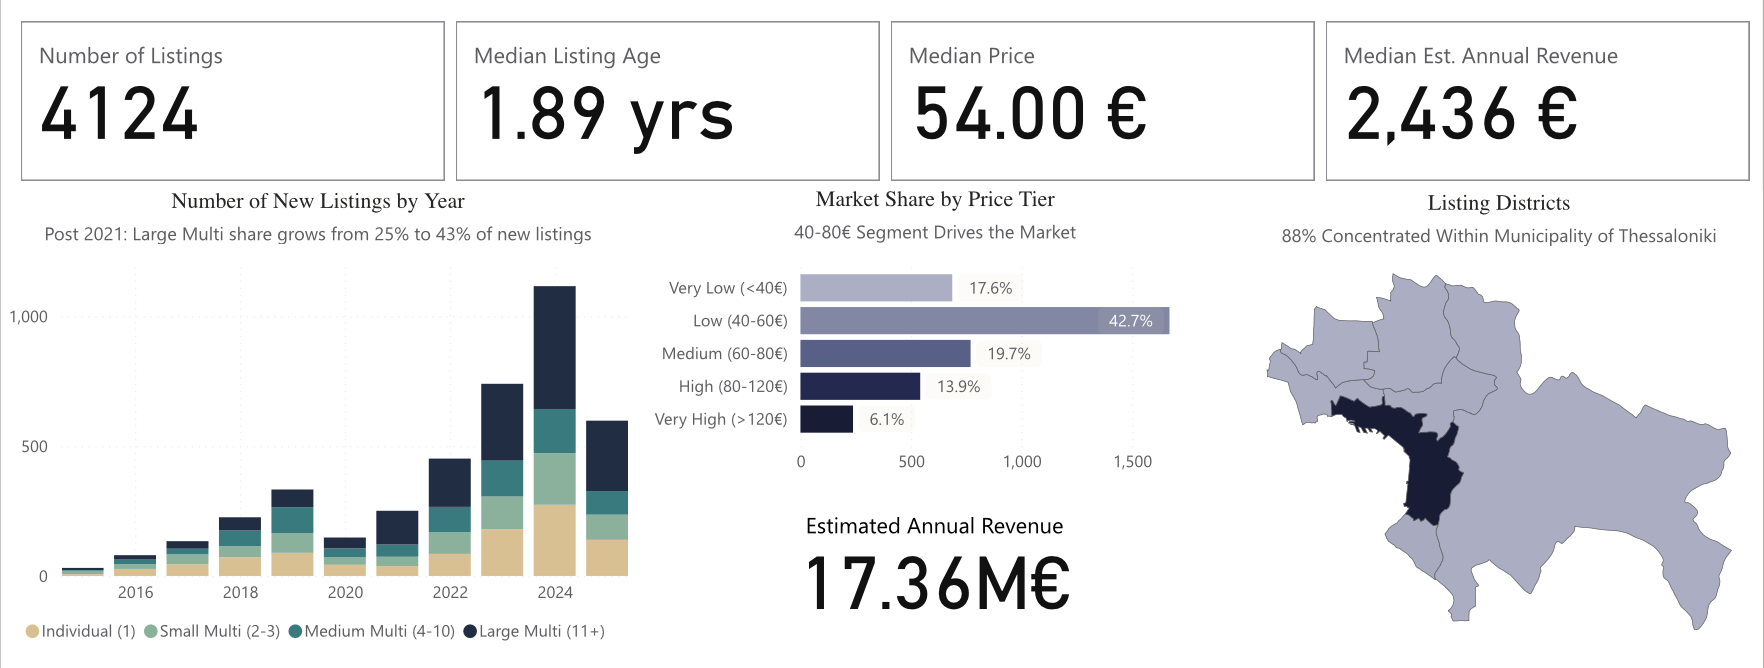

What the dashboard file says about the page in this screenshot:
{"tool":"powerbi","page":{"name":"Overview","canvas":[1280,720],"ordinal":0},"visuals":[{"type":"textbox","box":[10,0,1270,82.5],"z":0},{"type":"cardVisual","fields":{"Data":["CountNonNull(listings_regular_license.host_id)","listings_regular_license.Median Listing Age Text","Median(listings_regular_license.price)","Median(listings_regular_license.estimated_revenue_l365d)"]},"box":[9.8,82.2,1269.9,126.4],"z":1000},{"type":"textbox","box":[9.8,548.5,850.3,171.8],"z":2000},{"type":"shapeMap","title":"Listing Districts","fields":{"Category":["listings_regular_license.neighbourhood_cleansed"],"Value":["CountNonNull(listings_regular_license.id)"]},"box":[896,209.6,385,338.6],"z":3000},{"type":"listSlicer","fields":{"Values":["listings_regular_license.neighbourhood_cleansed"]},"box":[944.4,548.3,335.6,172.3],"z":4000},{"type":"columnChart","title":"Number of New Listings by Year","fields":{"Category":["listings_regular_license.first_review_date.Variation.Date Hierarchy.Year","listings_regular_license.first_review_date.Variation.Date Hierarchy.Quarter","listings_regular_license.first_review_date.Variation.Date Hierarchy.Month"],"Y":["CountNonNull(listings_regular_license.id)"],"Series":["listings_regular_license.host_category"]},"box":[0,208.6,460.6,339.7],"z":5000},{"type":"clusteredBarChart","title":"Market Share by Price Tier","fields":{"Category":["listings_regular_license.price_cat"],"Y":["CountNonNull(listings_regular_license.price_cat)"]},"box":[460.5,207.3,435.9,218],"z":6000},{"type":"cardVisual","title":"Total Estimated Revenue - Last 365 Days","fields":{"Data":["Sum(listings_regular_license.estimated_revenue_l365d)"]},"box":[460.5,425.2,435.9,122.9],"z":7000}]}

Visuals, with their boxes on the page's 1280x720 design canvas (x1, y1, x2, y2). These are canvas units, not pixel positions in the 1764x668 screenshot, which may show the page scaled, cropped or inside an application window:
textbox: 10, 0, 1280, 82
cardVisual - CountNonNull(listings_regular_license.host_id) x listings_regular_license.Median Listing Age Text: 10, 82, 1280, 209
textbox: 10, 548, 860, 720
"Listing Districts" shapeMap: 896, 210, 1281, 548
listSlicer - listings_regular_license.neighbourhood_cleansed: 944, 548, 1280, 721
"Number of New Listings by Year" columnChart: 0, 209, 461, 548
"Market Share by Price Tier" clusteredBarChart: 460, 207, 896, 425
"Total Estimated Revenue - Last 365 Days" cardVisual: 460, 425, 896, 548
